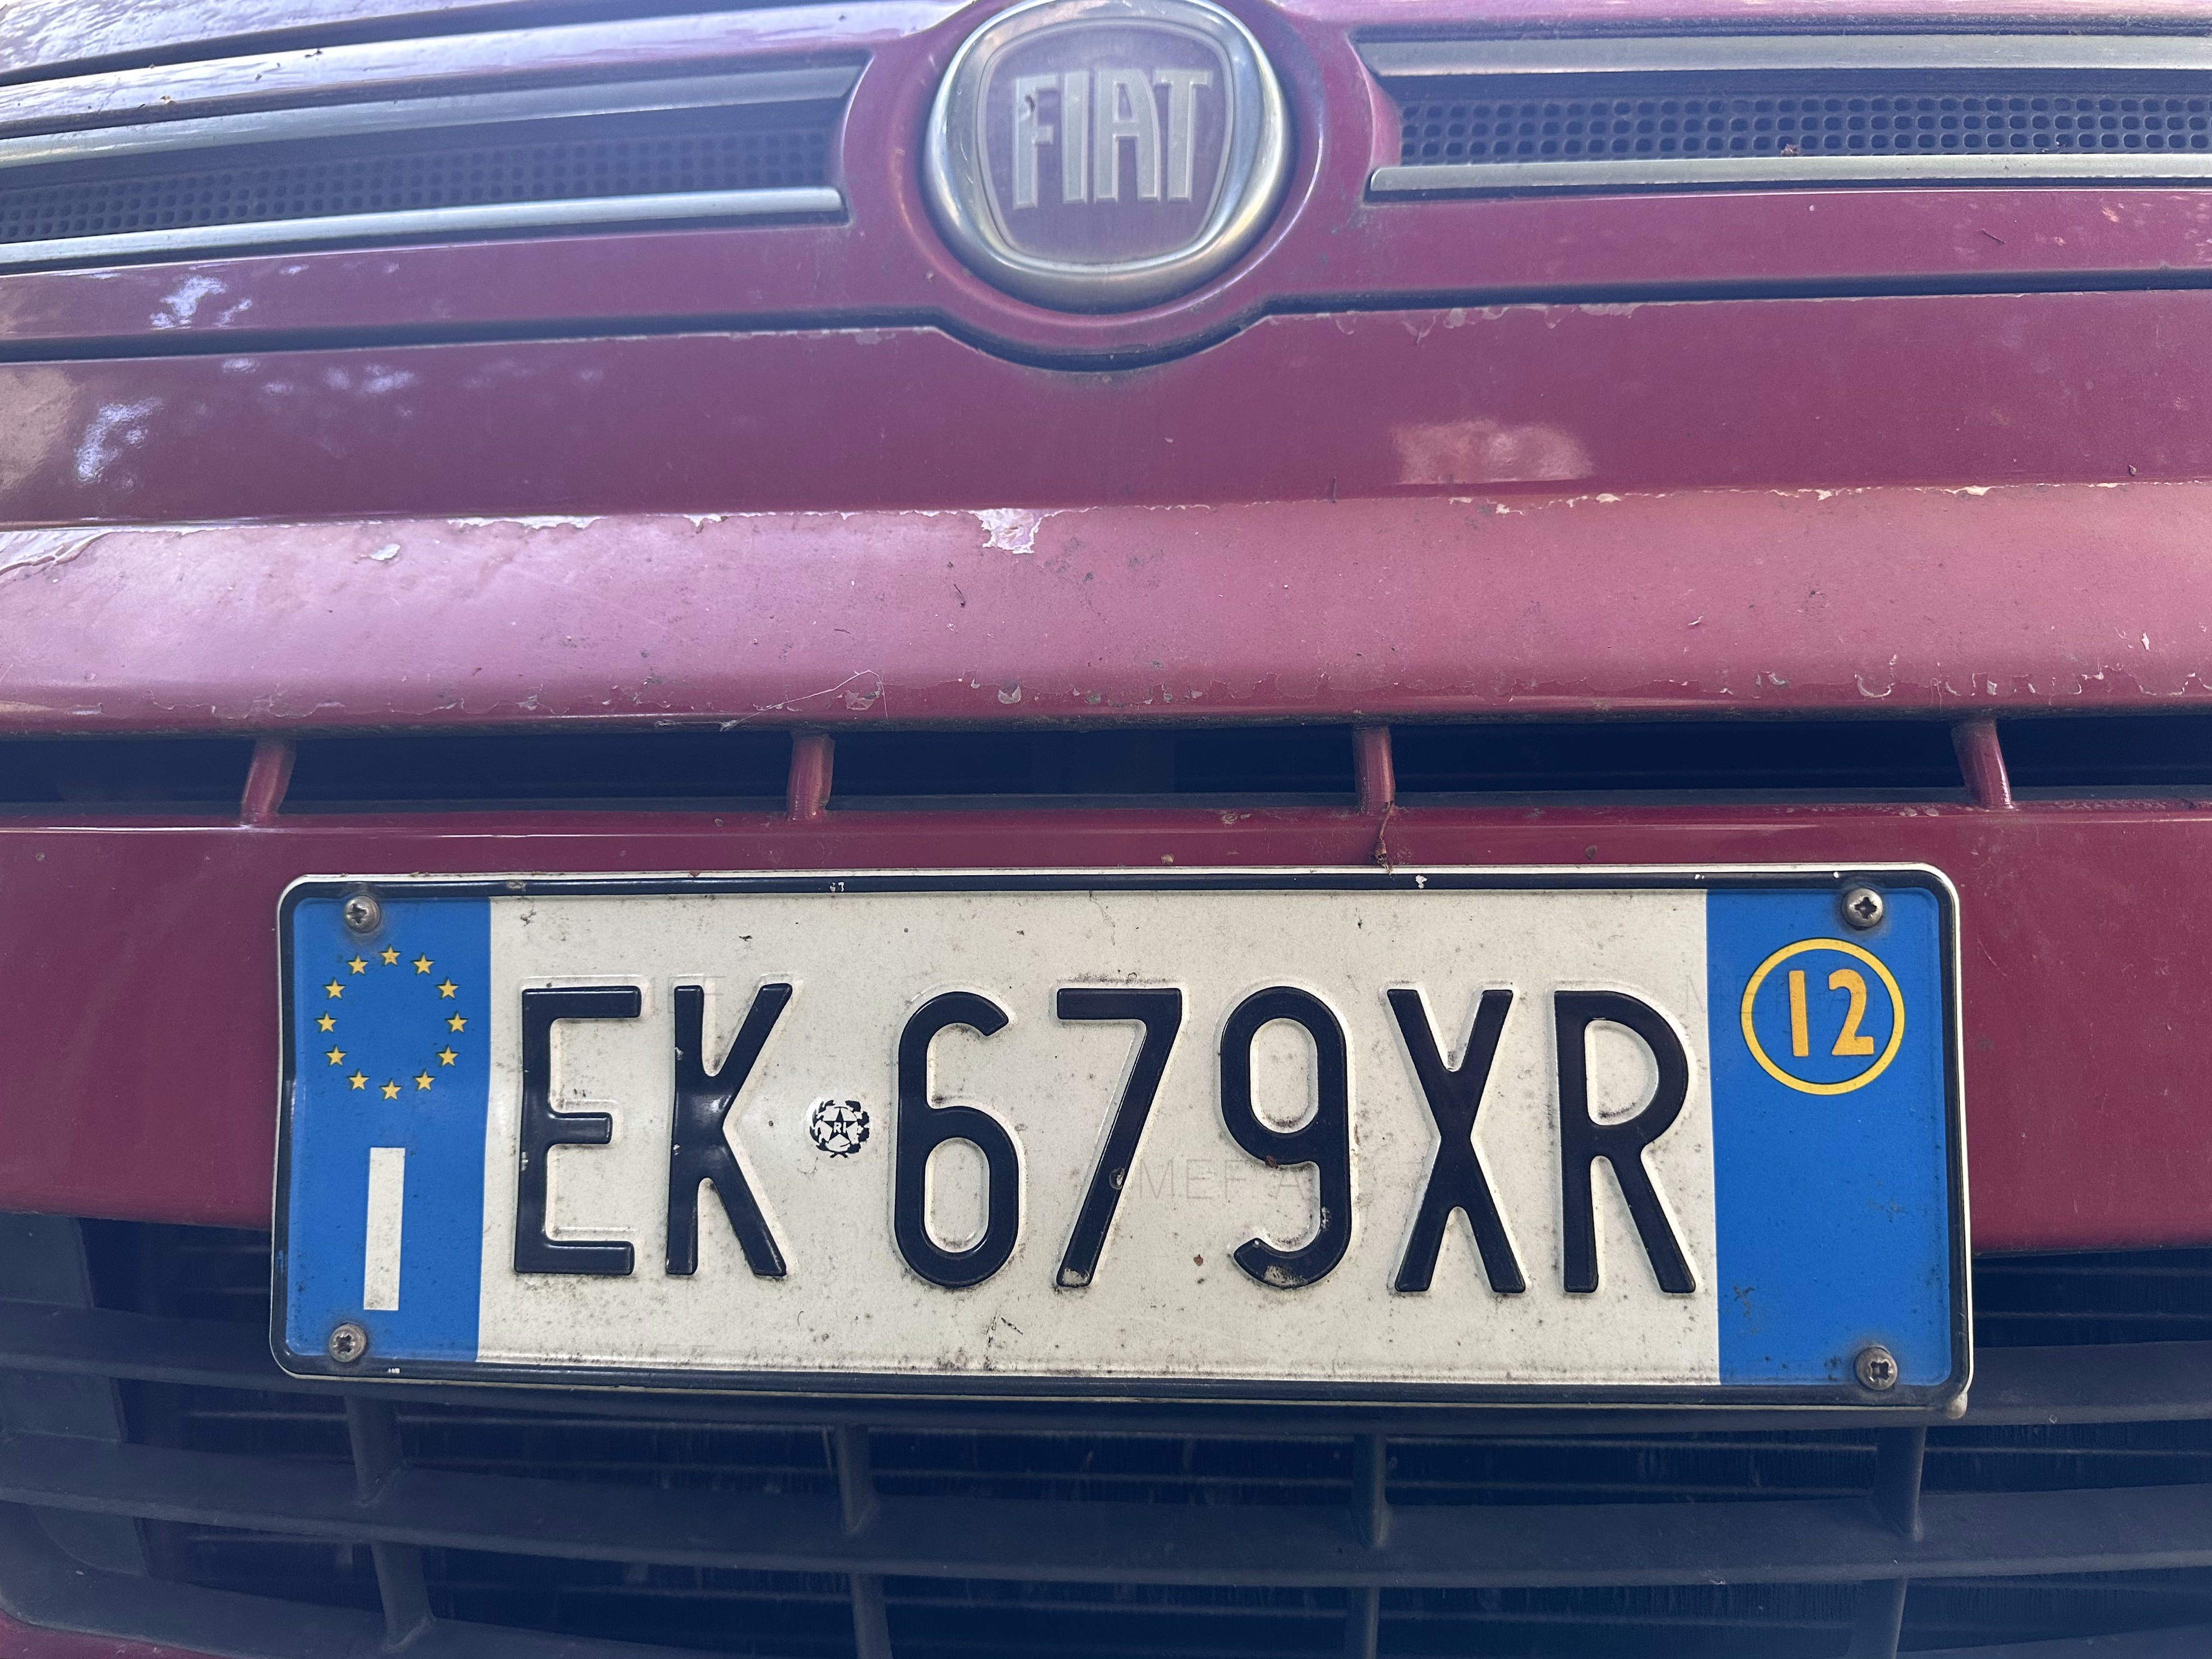license-plate: (267, 861, 1985, 1411)
